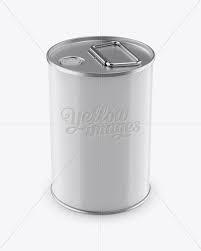Tin: (32, 18, 176, 219)
